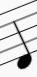note: (9, 3, 35, 71)
